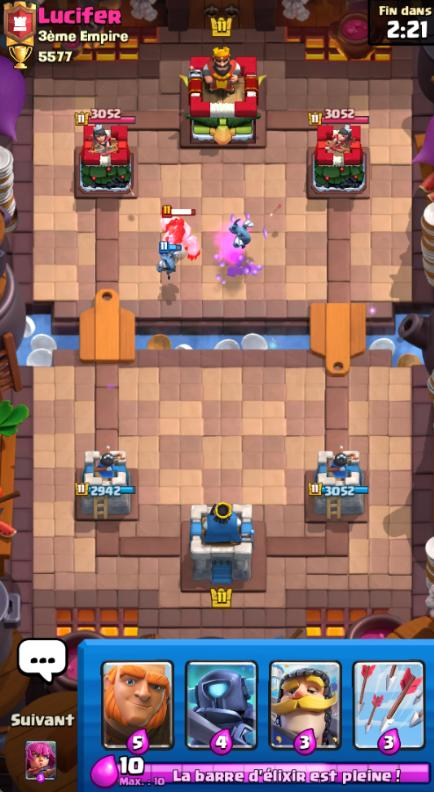gargouille: (231, 219, 254, 248), (158, 248, 179, 278)
